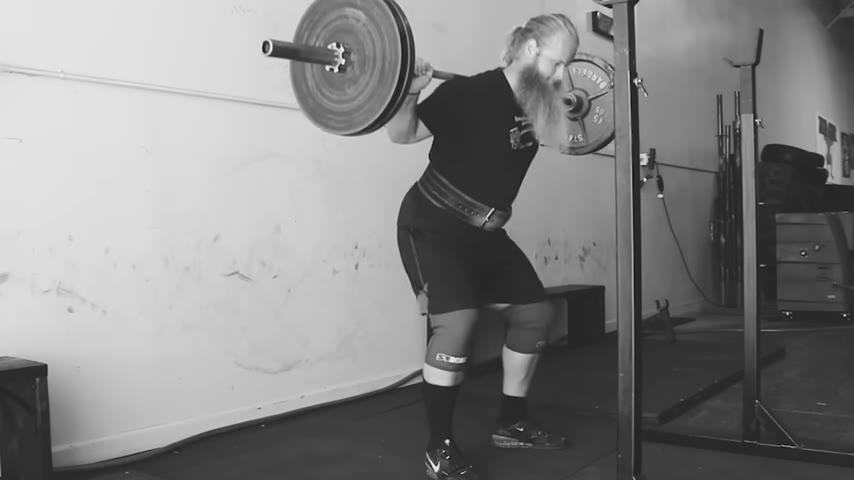barbell_plate_side: (256, 0, 367, 143)
